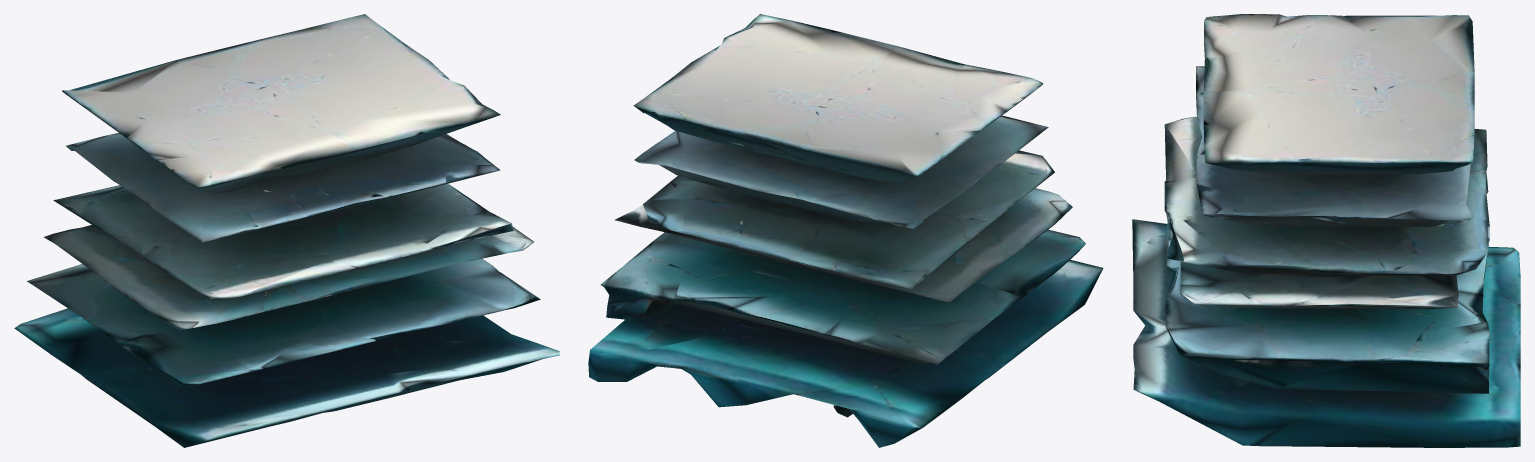
File: pages-node.glb
3 views of the same model, side by side, from view 1: azimuth 30°, elevation 25°; view 2: azimuth 150°, elevation 25°; view 3: azimuth 270°, elevation 25° (orthographic). The views are drawn at different scales.
Parts seen in each view (by area): view 1: model; view 2: model; view 3: model.
Boxes of the visible parts, x1,y1,x2,y2 form: model: (14, 14, 559, 447); model: (588, 14, 1103, 447); model: (1132, 14, 1520, 447).
Size of the model in its own units: 1.65 by 1.23 by 1.56.
Materials: 1 (1 with a texture image).
